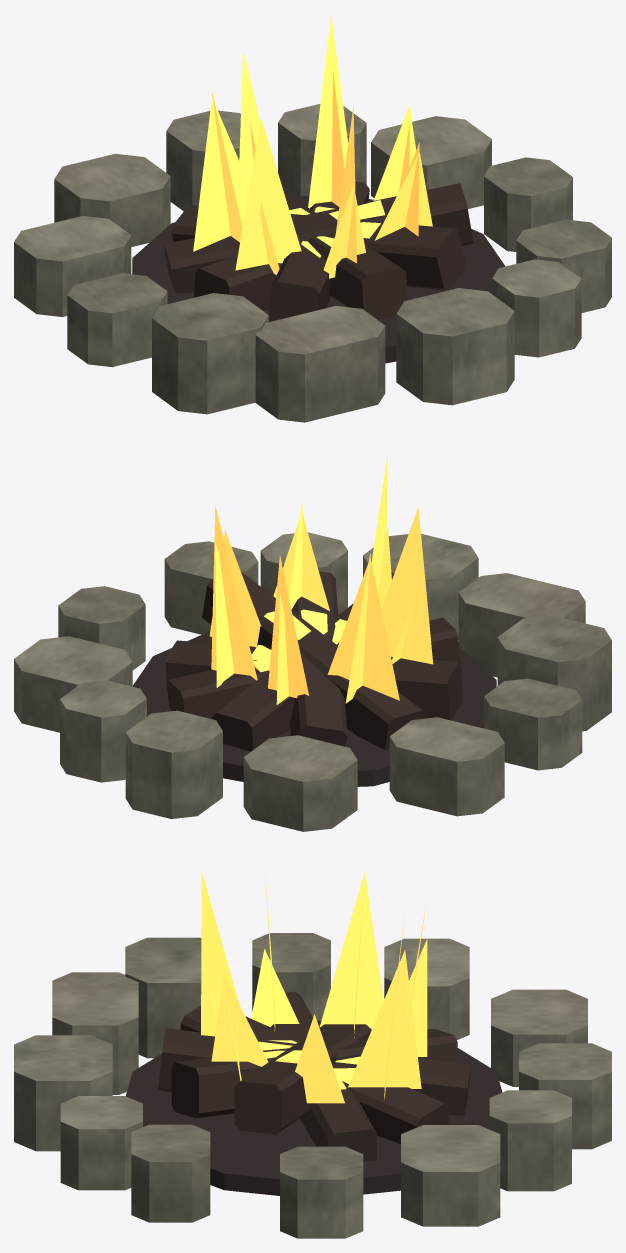
Rendered from campfire.glb.
The picture shows the model from 3 angles, top to bottom: view 1: azimuth 30°, elevation 25°; view 2: azimuth 150°, elevation 25°; view 3: azimuth 270°, elevation 25°; orthographic projection. The views are drawn at different scales.
Visible parts, largest first — view 1: Campfire; view 2: Campfire; view 3: Campfire.
Part boxes in pixels (x1,y1,x2,y2): Campfire: [14, 15, 611, 422]; Campfire: [14, 452, 611, 831]; Campfire: [14, 866, 611, 1238].
Bounding box in the file's own units: 1.85 × 0.8387 × 1.88.
Materials: 4 (1 with a texture image).
